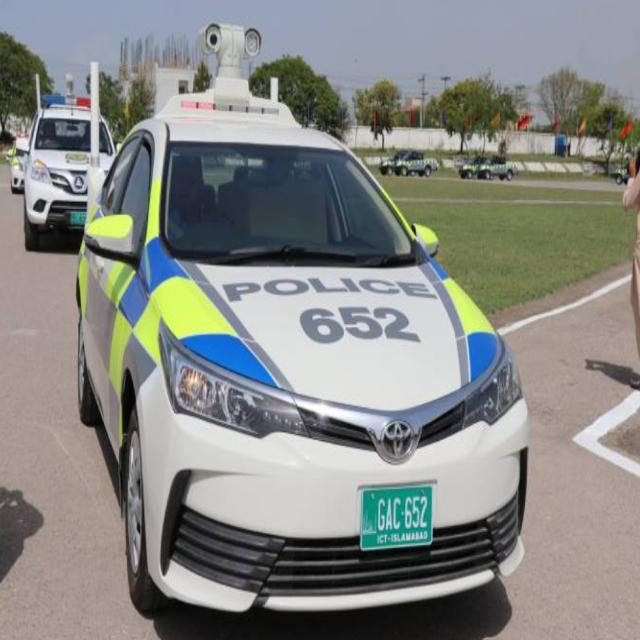police: (67, 120, 528, 601)
